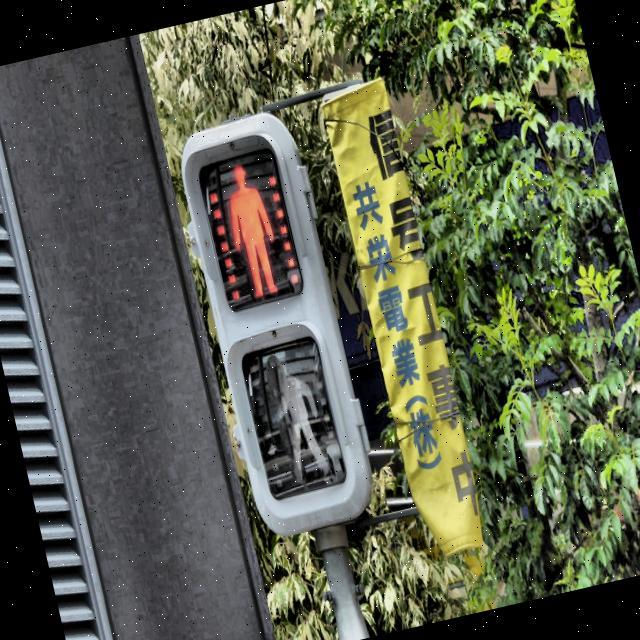red_light: (214, 156, 290, 304)
